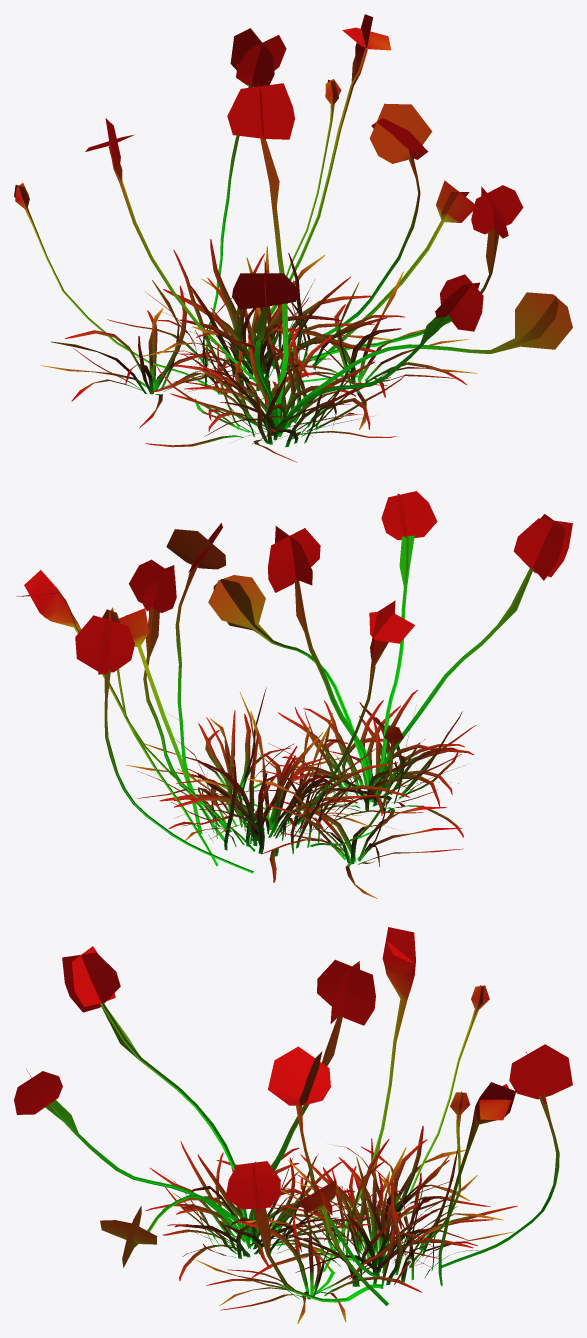
Rendered from Var5_LOD1.fbx.
3 renders of one model, top to bottom at view 1: azimuth 30°, elevation 25°; view 2: azimuth 150°, elevation 25°; view 3: azimuth 270°, elevation 25°, orthographic. The views are drawn at different scales.
Parts seen in each view (by area): view 1: _nity_Var5_LOD1; view 2: _nity_Var5_LOD1; view 3: _nity_Var5_LOD1.
Part boxes in pixels (x1,y1,x2,y2): _nity_Var5_LOD1: (14, 14, 572, 462); _nity_Var5_LOD1: (16, 491, 572, 898); _nity_Var5_LOD1: (14, 927, 572, 1323).
Size of the model in its own units: 27.22 by 20.71 by 33.82.
